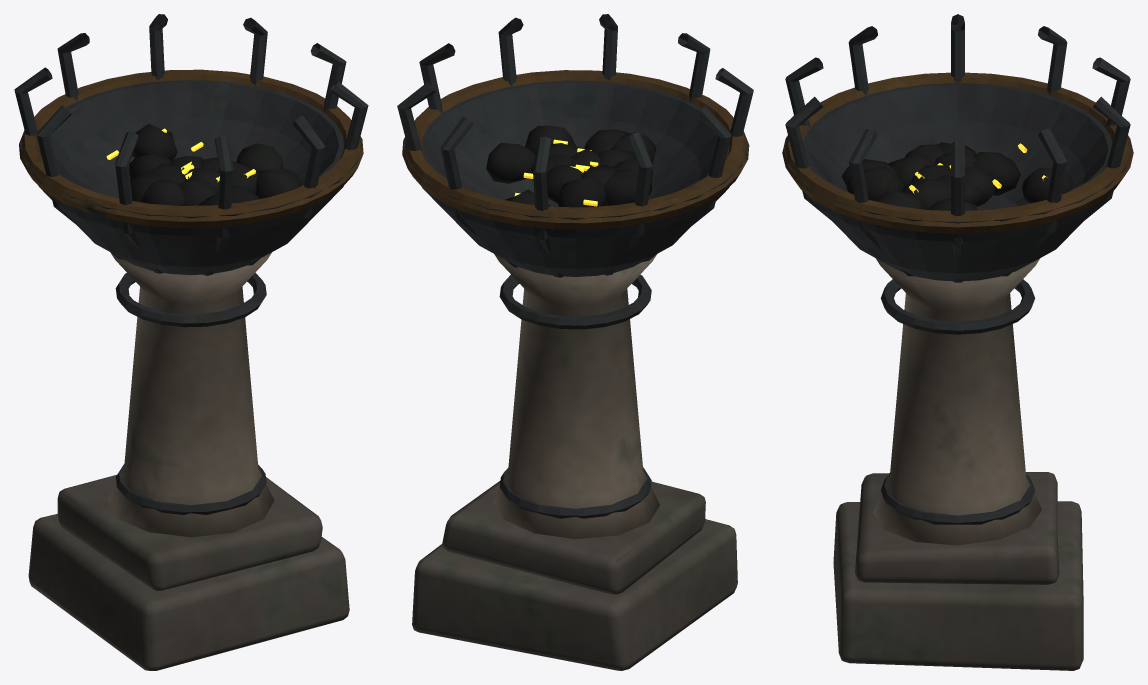
Rendered from brazier.glb.
3 renders of one model, left to right at view 1: azimuth 30°, elevation 25°; view 2: azimuth 150°, elevation 25°; view 3: azimuth 270°, elevation 25°, orthographic.
Parts seen in each view (by area): view 1: Body_Baked.017; view 2: Body_Baked.017; view 3: Body_Baked.017.
Part boxes in pixels (x1,y1,x2,y2): Body_Baked.017: (14,14,368,670); Body_Baked.017: (397,14,753,670); Body_Baked.017: (782,14,1133,670).
Bounding box in the file's own units: 0.7684 × 1.28 × 0.746.
2 materials, 1 textured.
